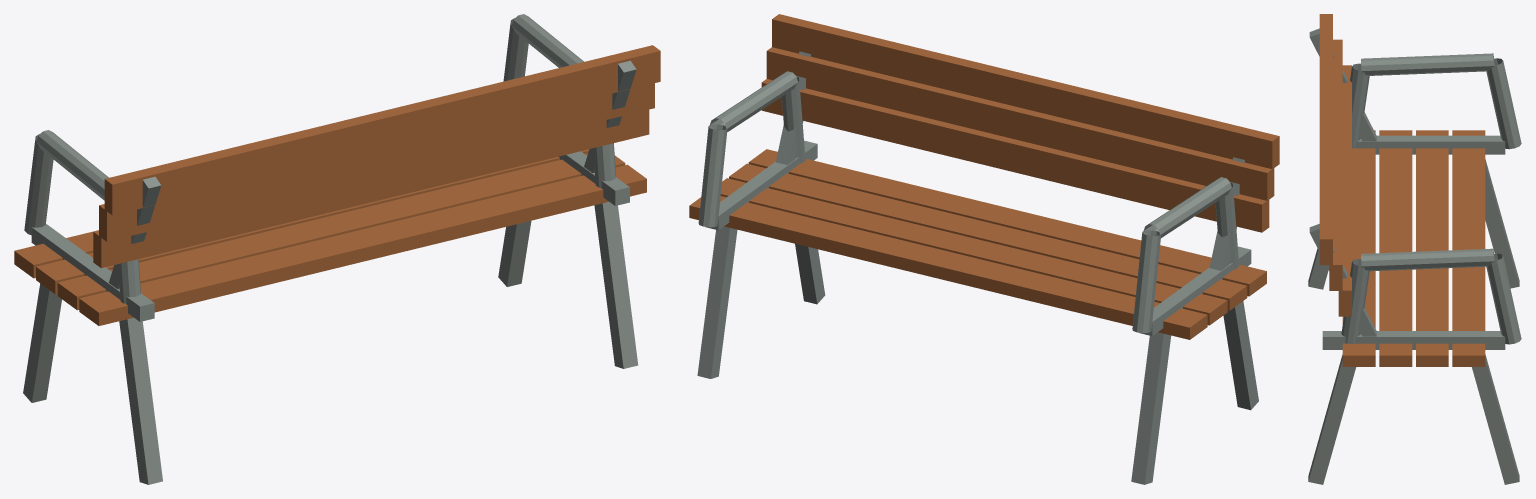
3 renders of one model, left to right at view 1: azimuth 30°, elevation 25°; view 2: azimuth 150°, elevation 25°; view 3: azimuth 270°, elevation 25°, orthographic. The views are drawn at different scales.
Visible parts, largest first — view 1: SW-L501; view 2: SW-L501; view 3: SW-L501.
Boxes of the visible parts, box(x1,y1,x2,y2) form: SW-L501: box(14, 14, 660, 484); SW-L501: box(689, 14, 1279, 484); SW-L501: box(1308, 14, 1521, 484).
Bounding box in the file's own units: 1.5 × 0.8 × 0.6.
